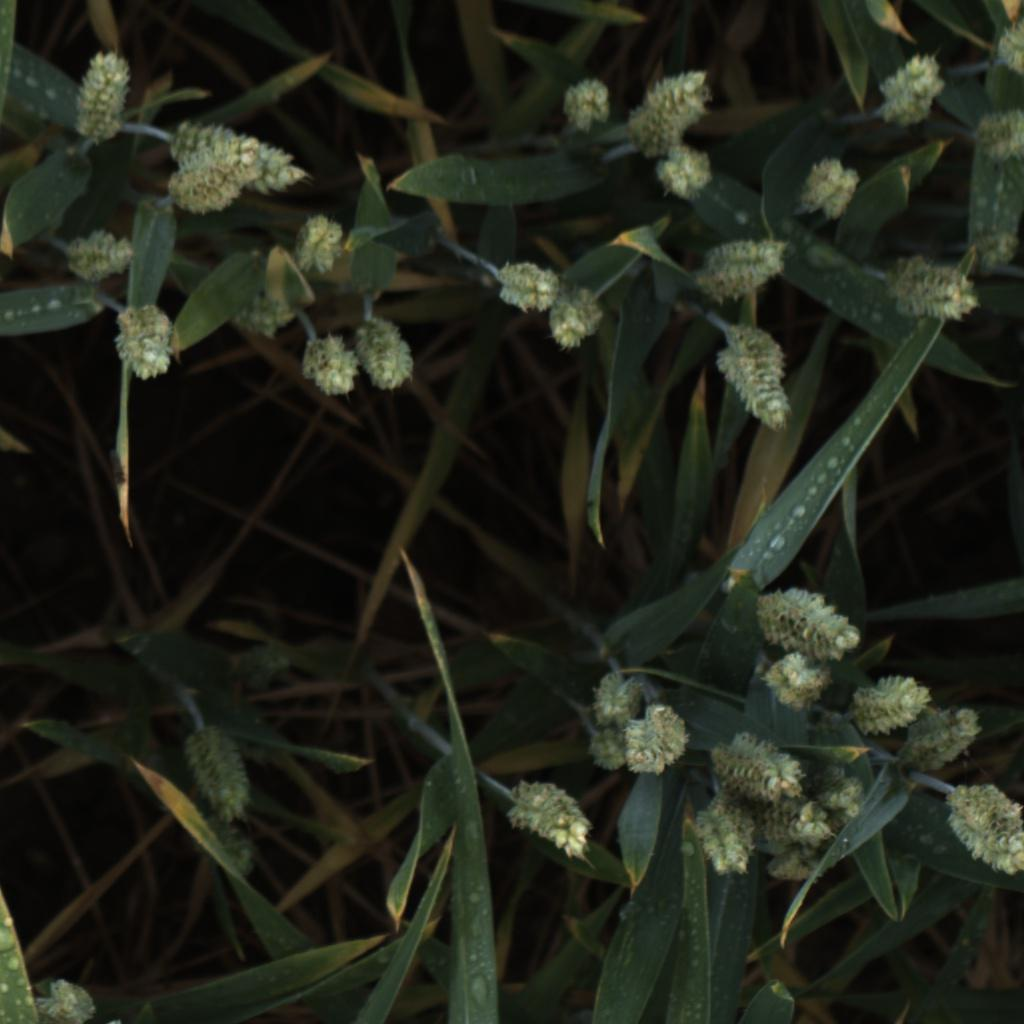0-0: (166, 116, 312, 197), (161, 130, 271, 218), (711, 321, 795, 434), (622, 66, 713, 163), (757, 586, 862, 662), (499, 778, 592, 861), (182, 728, 254, 830), (880, 251, 984, 321), (68, 50, 138, 153), (710, 732, 807, 803), (700, 234, 789, 305), (942, 781, 1024, 858), (869, 48, 949, 125), (692, 796, 764, 881), (945, 806, 1024, 879), (110, 300, 179, 380), (852, 671, 937, 734), (622, 701, 691, 777), (794, 155, 867, 226), (354, 310, 414, 395), (753, 798, 838, 853), (63, 226, 139, 287), (908, 708, 985, 768), (760, 651, 830, 717), (298, 330, 362, 398), (289, 209, 349, 280), (802, 762, 868, 826), (547, 282, 605, 353), (490, 254, 563, 310), (958, 227, 1023, 282), (555, 76, 616, 132), (240, 633, 305, 685), (766, 833, 833, 883), (34, 976, 101, 1024), (654, 144, 710, 200), (232, 291, 296, 340), (587, 667, 644, 722), (582, 720, 634, 773), (977, 102, 1024, 157), (993, 10, 1024, 85), (102, 1018, 126, 1024)
